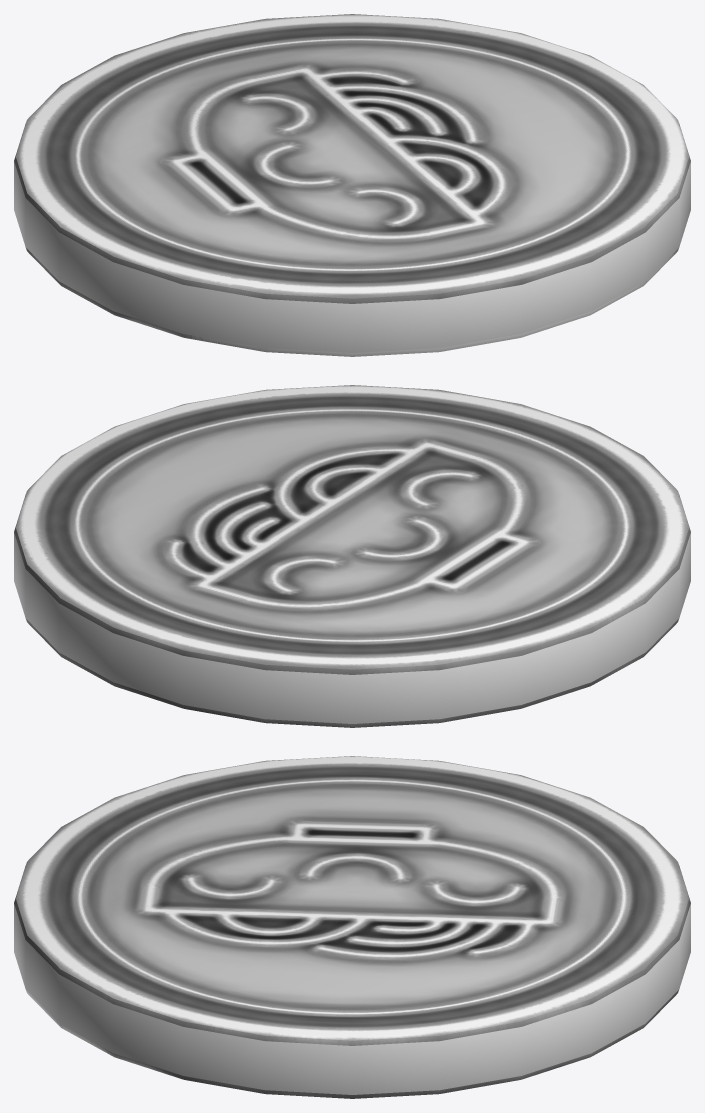
File: Coin_3.FBX
3 views of the same model, one above another, from view 1: azimuth 30°, elevation 25°; view 2: azimuth 150°, elevation 25°; view 3: azimuth 270°, elevation 25° (orthographic).
Parts seen in each view (by area): view 1: Coin003; view 2: Coin003; view 3: Coin003.
Boxes of the visible parts, x1,y1,x2,y2 form: Coin003: (14,14,690,356); Coin003: (14,385,690,727); Coin003: (14,756,690,1098).
Size of the model in its own units: 99.83 by 9.98 by 99.83.
